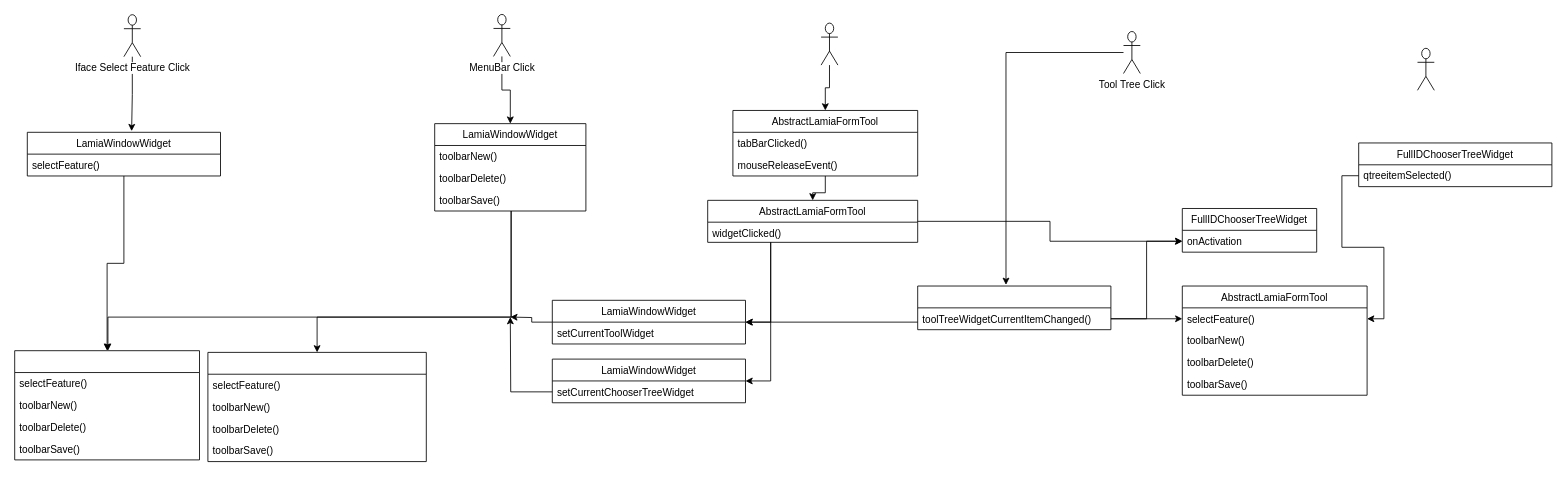
The diagram is 1567 pixels wide and 479 high, and some of its shapes have lost their labels. Each missing label, with the box of its shape:
AbstractLamiaTool: (917, 285, 1111, 330)
Chooser Tree item Click: (1417, 47, 1434, 90)
LamiaWindowWidget.currentchoosertreewidget AbstractChooserTreeWidget: (207, 352, 426, 462)
LamiaWindowWidget.currenttoolwidget AbstractLamiaFormTool: (14, 350, 200, 460)
Tabbar click: (820, 22, 838, 65)
